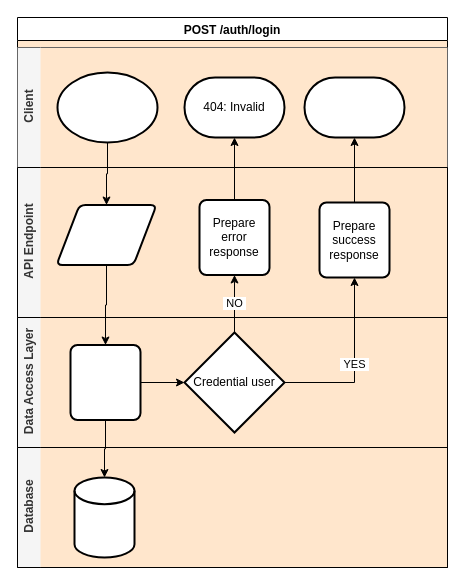
Image size: 465x585. Some labels were removed from this diagram. Each missing label, with the box of its shape:
200: Response Token: (303, 76, 405, 138)
DB: (73, 476, 135, 558)
Input Username Password: (55, 204, 157, 266)
Query Account Details: (69, 344, 141, 420)
Request: (56, 71, 158, 143)
